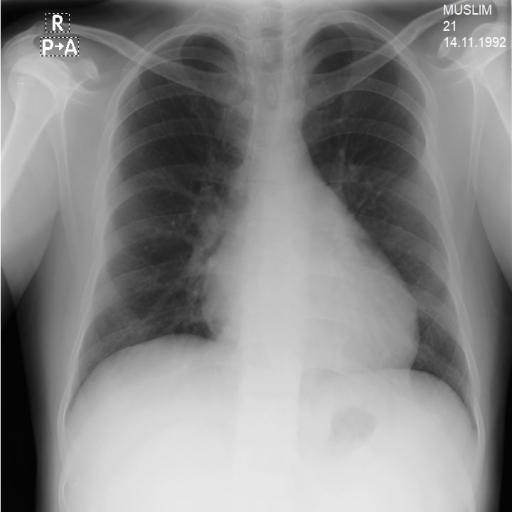kardiomegali: (62, 3, 484, 437)
